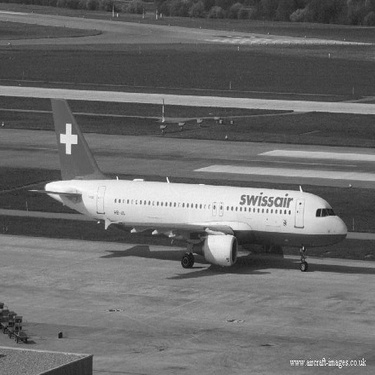airplane: (32, 89, 352, 279)
